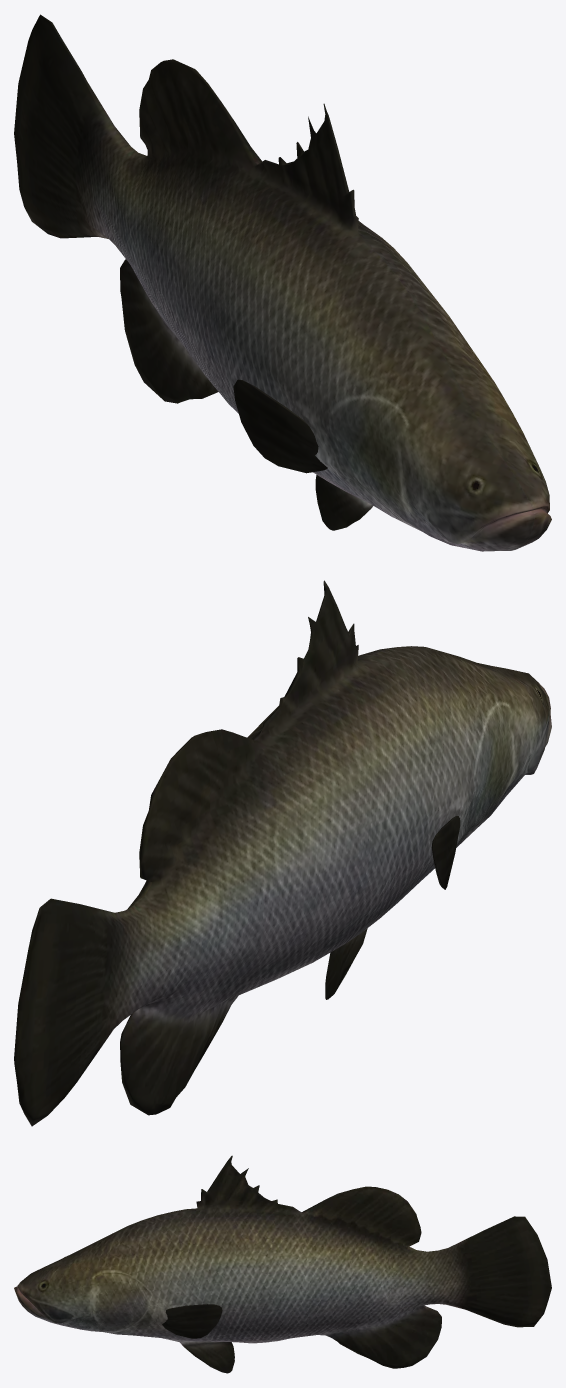
Rendered from barramundi-fish.glb.
3 renders of one model, top to bottom at view 1: azimuth 30°, elevation 25°; view 2: azimuth 150°, elevation 25°; view 3: azimuth 270°, elevation 25°, orthographic. The views are drawn at different scales.
Visible parts, largest first — view 1: BarramundiFish; view 2: BarramundiFish; view 3: BarramundiFish.
Part boxes in pixels (left/top/right/bottom): BarramundiFish: left=14, top=14, right=551, bottom=551; BarramundiFish: left=14, top=580, right=551, bottom=1126; BarramundiFish: left=14, top=1155, right=551, bottom=1373.
Bounding box in the file's own units: 0.1429 × 0.2875 × 0.6431.
Materials: 1 (1 with a texture image).
